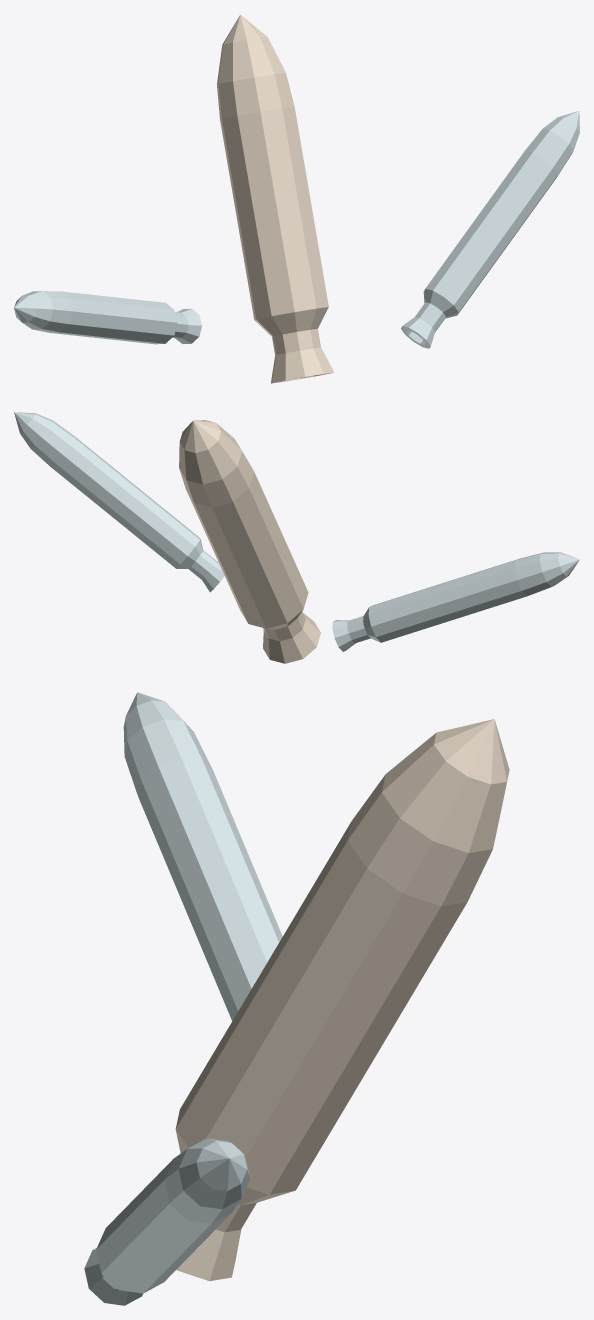
The model's file is rockets_and_animation.dae.
3 views of the same model, one above another, from view 1: azimuth 30°, elevation 25°; view 2: azimuth 150°, elevation 25°; view 3: azimuth 270°, elevation 25° (orthographic). The views are drawn at different scales.
Visible parts, largest first — view 1: Rocket BIG, Rocket small 002, Rocket small 1; view 2: Rocket BIG, Rocket small 002, Rocket small 1; view 3: Rocket BIG, Rocket small 1, Rocket small 002.
Part boxes in pixels (left/top/right/bottom): Rocket BIG: left=217, top=14, right=334, bottom=383; Rocket small 002: left=401, top=111, right=579, bottom=348; Rocket small 1: left=14, top=291, right=202, bottom=344; Rocket BIG: left=179, top=420, right=320, bottom=663; Rocket small 002: left=14, top=412, right=224, bottom=592; Rocket small 1: left=332, top=552, right=579, bottom=651; Rocket BIG: left=175, top=719, right=509, bottom=1281; Rocket small 1: left=123, top=692, right=282, bottom=1020; Rocket small 002: left=84, top=1138, right=250, bottom=1305.
Size of the model in its own units: 28.57 by 9.69 by 14.31.
